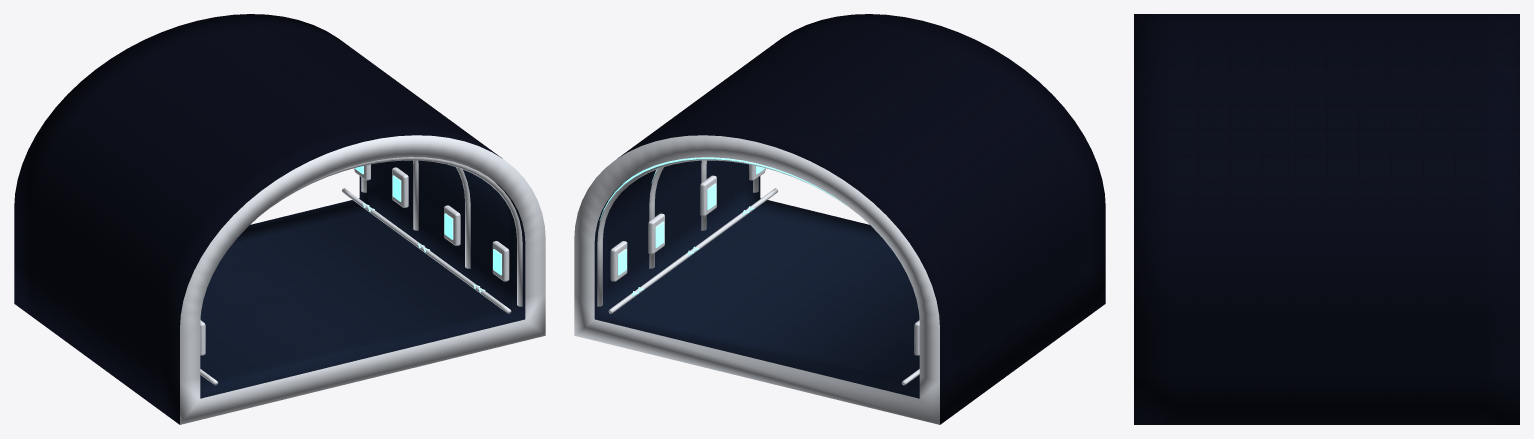
File: straight_12m.glb
3 views of the same model, side by side, from view 1: azimuth 30°, elevation 25°; view 2: azimuth 150°, elevation 25°; view 3: azimuth 270°, elevation 25° (orthographic). The views are drawn at different scales.
Visible parts, largest first — view 1: TunnelGeometry; view 2: TunnelGeometry; view 3: TunnelGeometry.
Boxes of the visible parts, box(x1,y1,x2,y2) form: TunnelGeometry: box(14, 14, 545, 424); TunnelGeometry: box(574, 14, 1105, 424); TunnelGeometry: box(1134, 14, 1519, 424).
Size of the model in its own units: 15.3 by 9.52 by 12.
4 materials, 2 textured.
